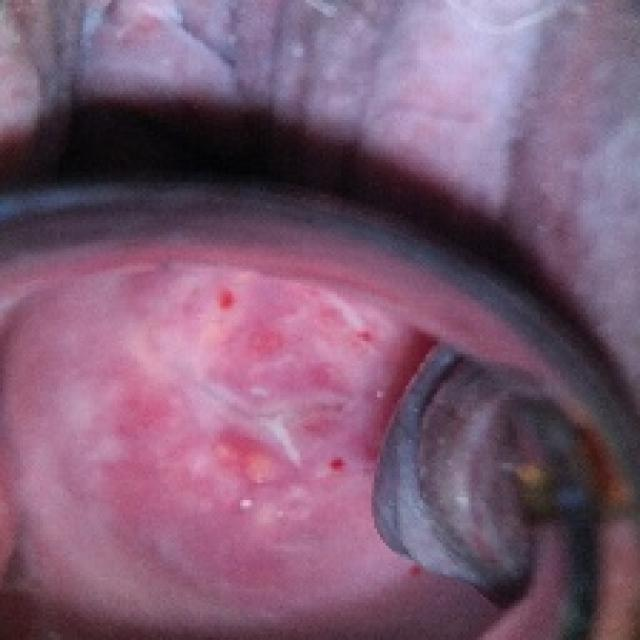type-2: (0, 225, 505, 640)
